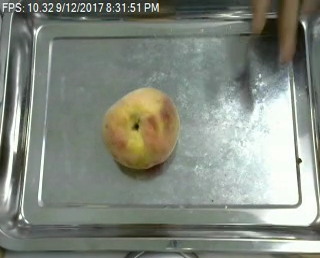Peach: (102, 86, 180, 169)
